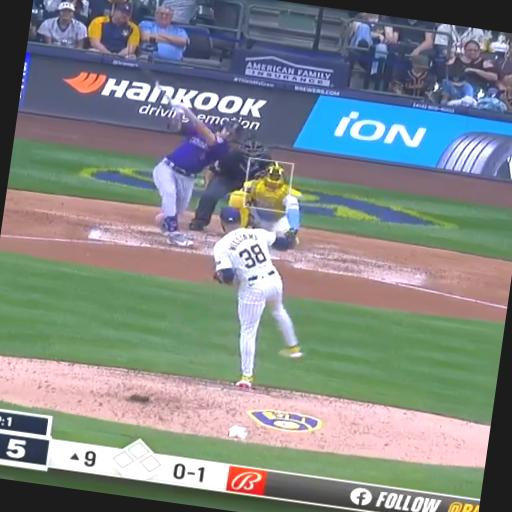bat: (139, 60, 180, 108)
